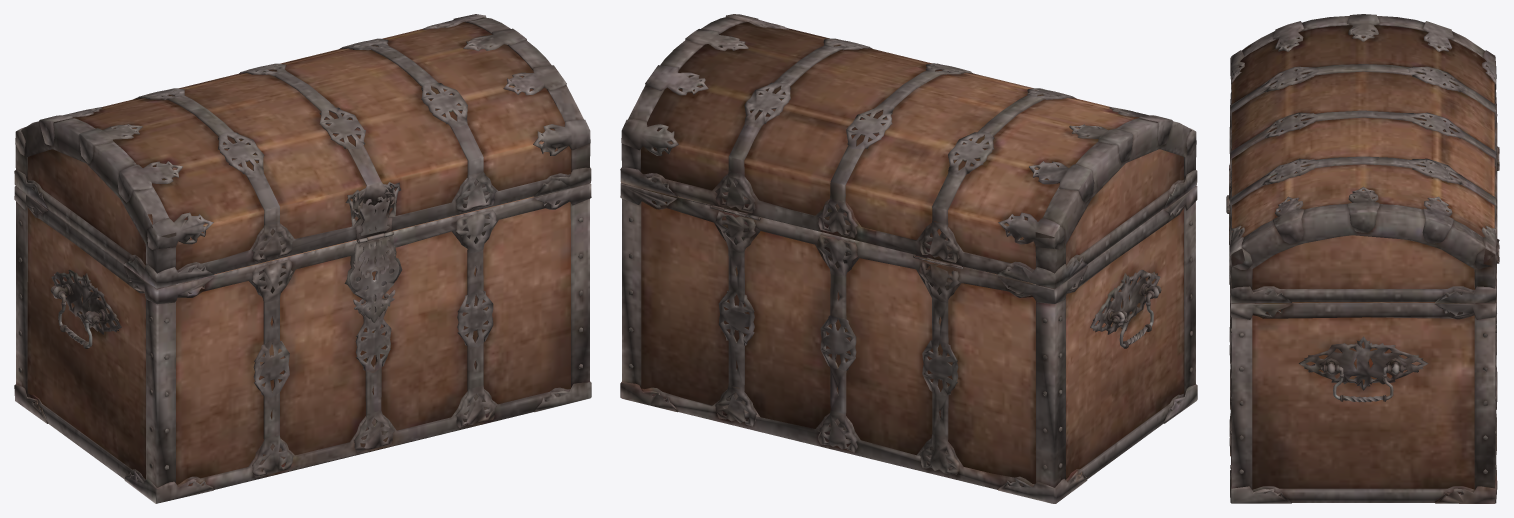
File: chest.glb
3 views of the same model, side by side, from view 1: azimuth 30°, elevation 25°; view 2: azimuth 150°, elevation 25°; view 3: azimuth 270°, elevation 25° (orthographic). The views are drawn at different scales.
Parts seen in each view (by area): view 1: treasure_chest_bottom, treasure_chest_lid, treasure_chest_lock, treasure_chest_handle_left; view 2: treasure_chest_bottom, treasure_chest_lid, treasure_chest_handle_left; view 3: treasure_chest_lid, treasure_chest_bottom, treasure_chest_handle_right.
Part boxes in pixels (left/top/right/bottom): treasure_chest_bottom: left=14, top=183, right=591, bottom=503; treasure_chest_lid: left=14, top=14, right=591, bottom=288; treasure_chest_lock: left=349, top=233, right=399, bottom=322; treasure_chest_handle_left: left=50, top=285, right=100, bottom=348; treasure_chest_bottom: left=620, top=183, right=1197, bottom=503; treasure_chest_lid: left=620, top=14, right=1197, bottom=288; treasure_chest_handle_left: left=1112, top=285, right=1161, bottom=348; treasure_chest_lid: left=1226, top=14, right=1499, bottom=302; treasure_chest_bottom: left=1229, top=131, right=1499, bottom=503; treasure_chest_handle_right: left=1320, top=365, right=1406, bottom=402.
Bounding box in the file's own units: 0.959 × 0.618 × 0.5224.
1 material, 1 textured.
